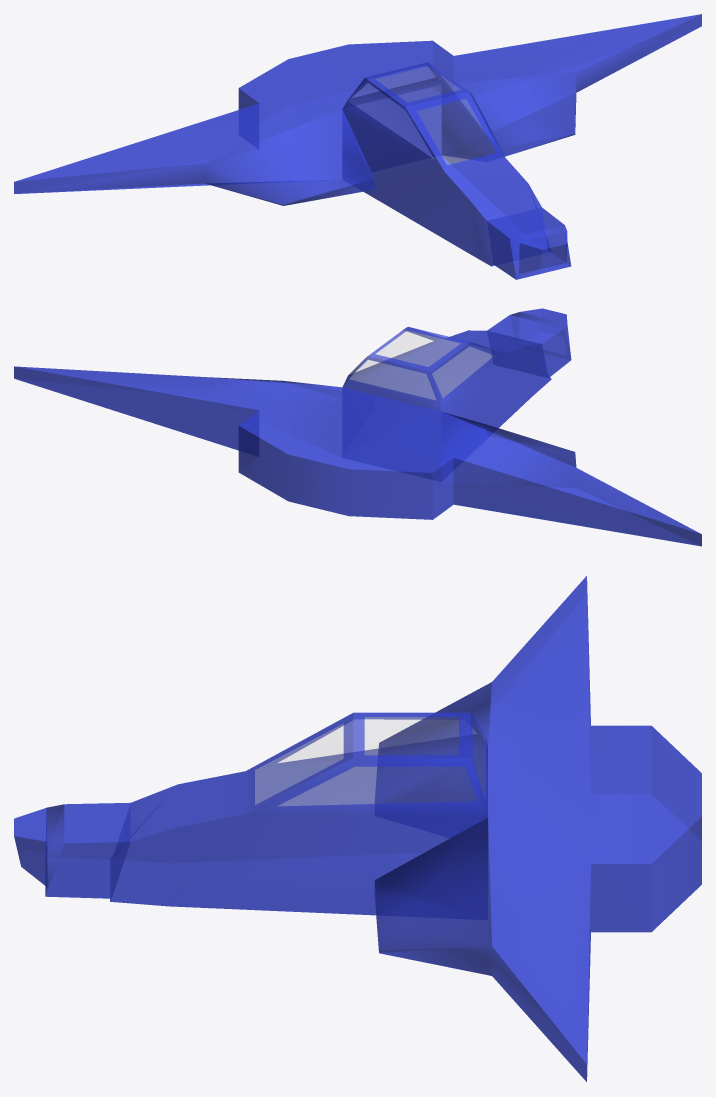
File: ship1.glb
3 views of the same model, one above another, from view 1: azimuth 30°, elevation 25°; view 2: azimuth 150°, elevation 25°; view 3: azimuth 270°, elevation 25° (orthographic). The views are drawn at different scales.
Parts seen in each view (by area): view 1: Ship; view 2: Ship; view 3: Ship.
Part boxes in pixels (box(x1,y1,x2,y2)): Ship: box(14, 14, 701, 279); Ship: box(14, 308, 701, 546); Ship: box(14, 576, 701, 1081).
Bounding box in the file's own units: 15.91 × 2.26 × 9.45.
